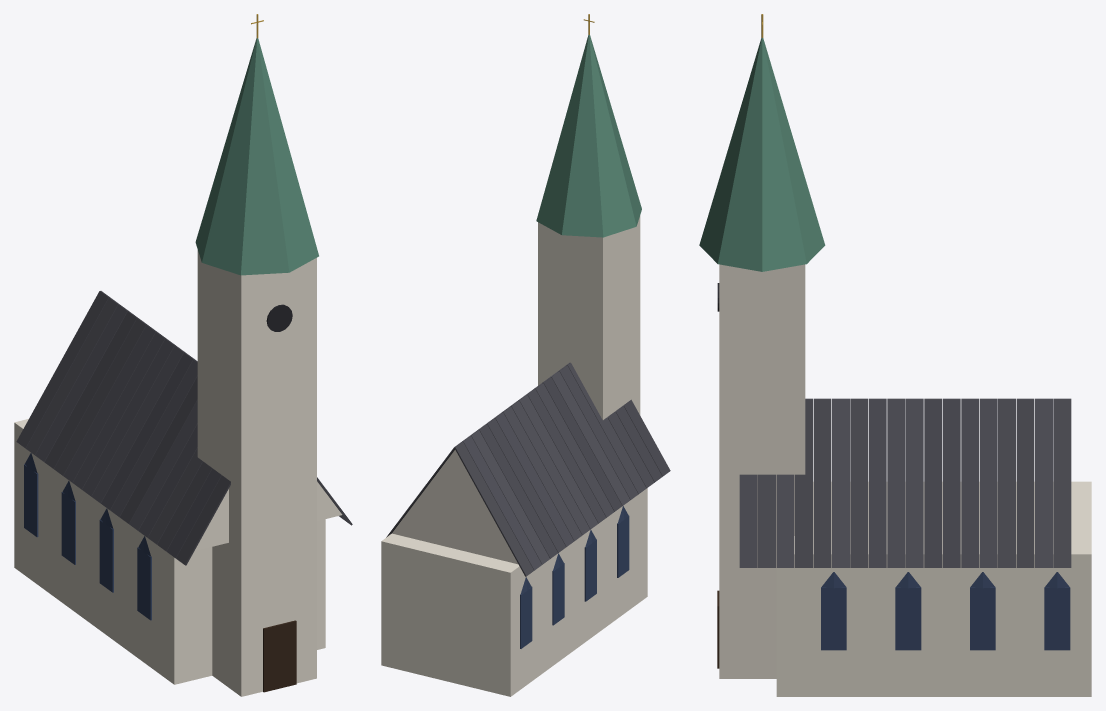
Rendered from church_4.glb.
3 renders of one model, left to right at view 1: azimuth 30°, elevation 25°; view 2: azimuth 150°, elevation 25°; view 3: azimuth 270°, elevation 25°, orthographic. The views are drawn at different scales.
Parts seen in each view (by area): view 1: church4_plaster, church4_tiles, church4_glass, church4_wood; view 2: church4_plaster, church4_tiles, church4_glass; view 3: church4_tiles, church4_plaster, church4_glass.
Part boxes in pixels (x1,y1,x2,y2): church4_plaster: (14,250,342,696); church4_tiles: (16,38,352,565); church4_glass: (24,304,292,620); church4_wood: (263,620,296,692); church4_plaster: (381,215,647,696); church4_tiles: (386,35,670,576); church4_glass: (520,506,629,648); church4_tiles: (699,38,1071,567); church4_plaster: (719,264,1091,696); church4_glass: (717,283,1070,650).
Bounding box in the file's own units: 6.65 × 24.9 × 13.7.
